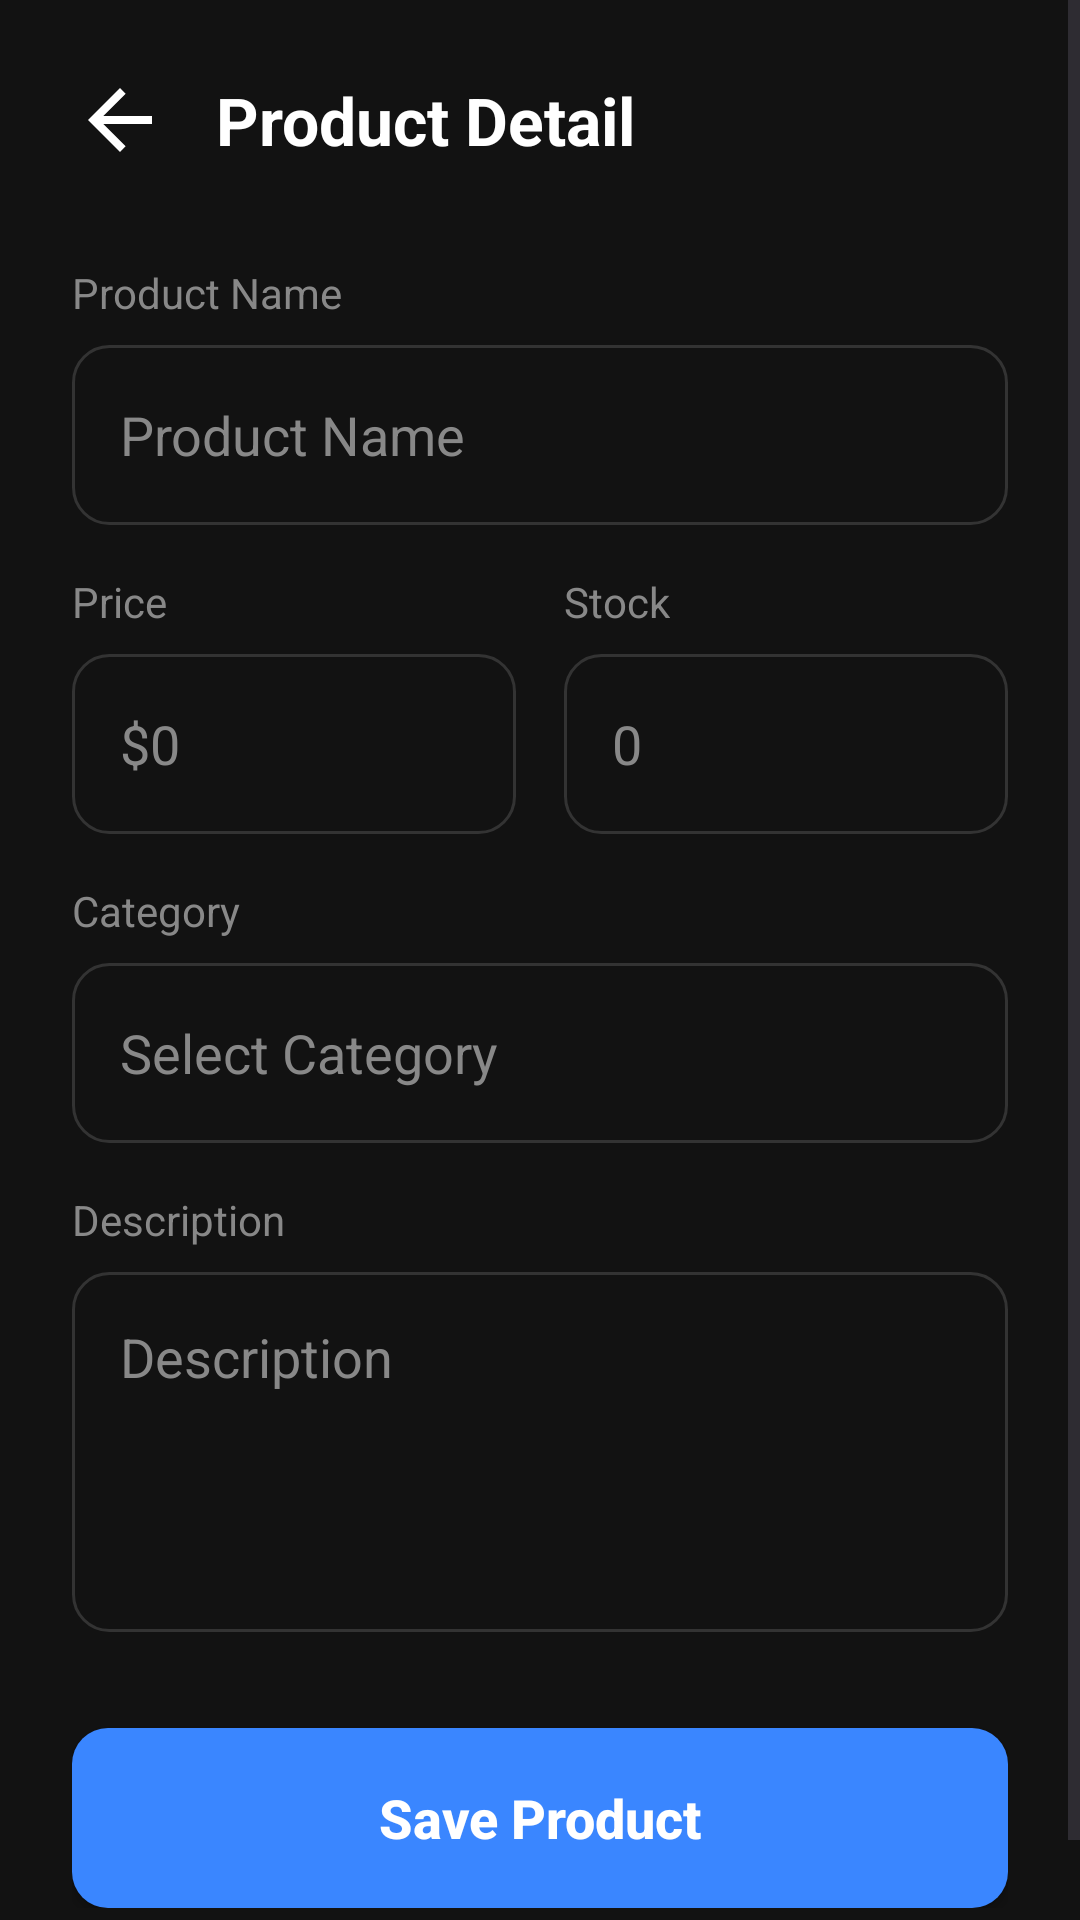

Icon click points for this 1080*1920 phone screenshot, format (x,y):
Back: (120,120)
